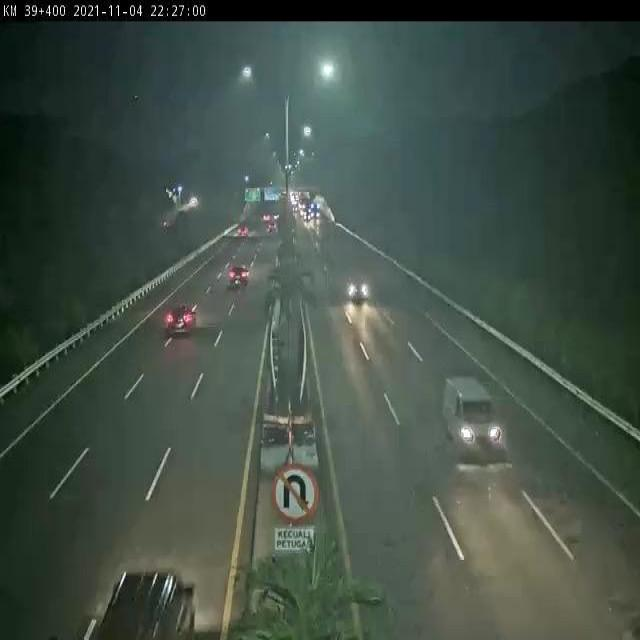car: (442, 374, 500, 458), (163, 305, 196, 336), (343, 267, 369, 301), (228, 262, 252, 290)
